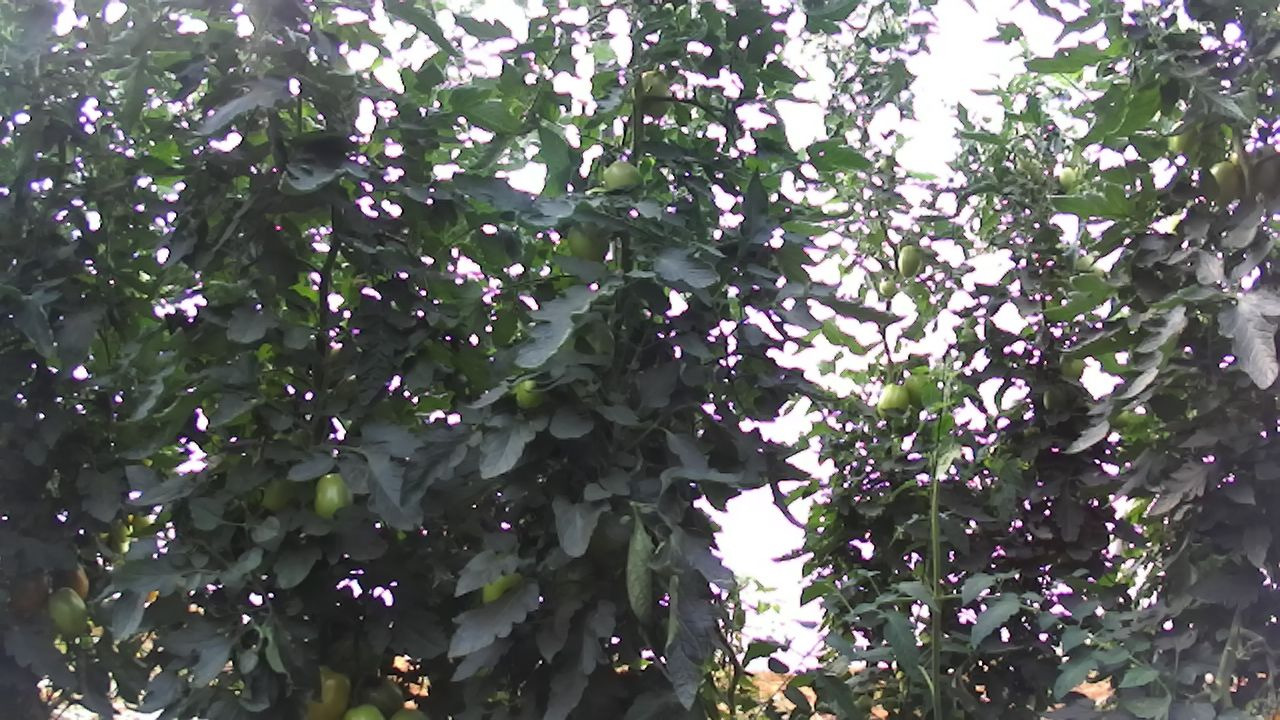tomato: (299, 658, 356, 720), (308, 468, 358, 526), (47, 584, 91, 642), (1204, 154, 1245, 214), (600, 156, 645, 193), (876, 381, 909, 418), (895, 242, 925, 281)
